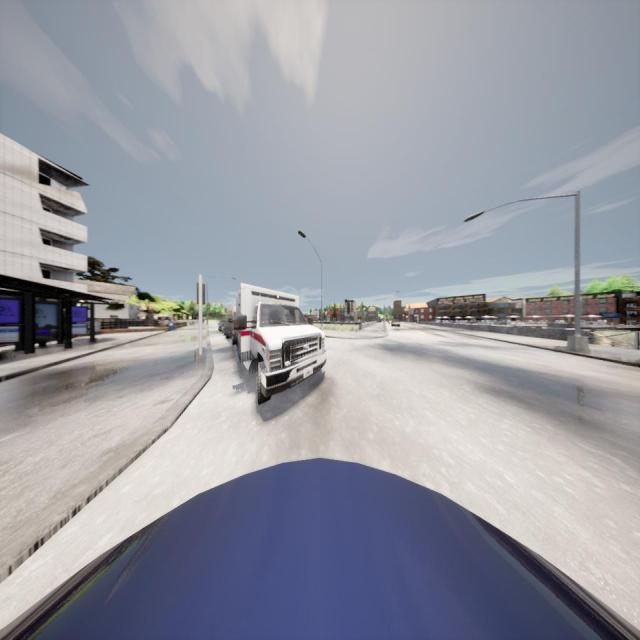Vehicle: (0, 458, 640, 640), (236, 283, 326, 404), (224, 306, 236, 338), (217, 318, 225, 334), (391, 319, 400, 327)
traffic_light: (198, 283, 205, 305), (383, 306, 387, 314)
